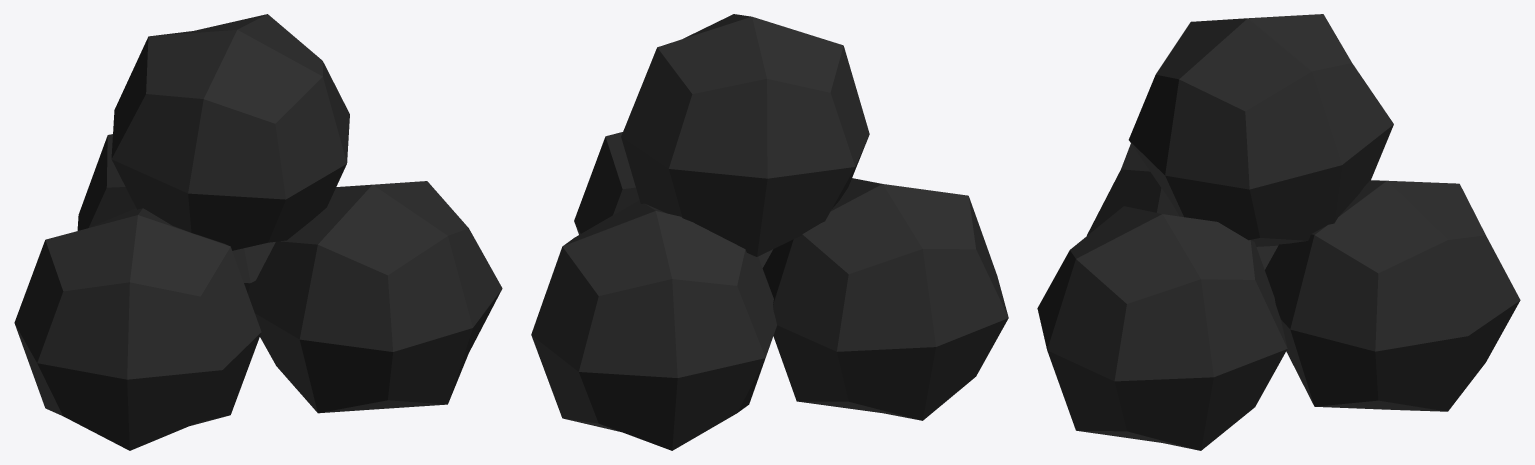
File: cannonballs.glb
3 views of the same model, side by side, from view 1: azimuth 30°, elevation 25°; view 2: azimuth 150°, elevation 25°; view 3: azimuth 270°, elevation 25° (orthographic).
Visible parts, largest first — view 1: cannonballs; view 2: cannonballs; view 3: cannonballs.
Boxes of the visible parts, box(x1,y1,x2,y2) form: cannonballs: box(14, 14, 502, 450); cannonballs: box(531, 14, 1008, 450); cannonballs: box(1037, 14, 1520, 450).
Bounding box in the file's own units: 0.9644 × 0.805 × 0.9313.
Materials: 1 (1 with a texture image).
